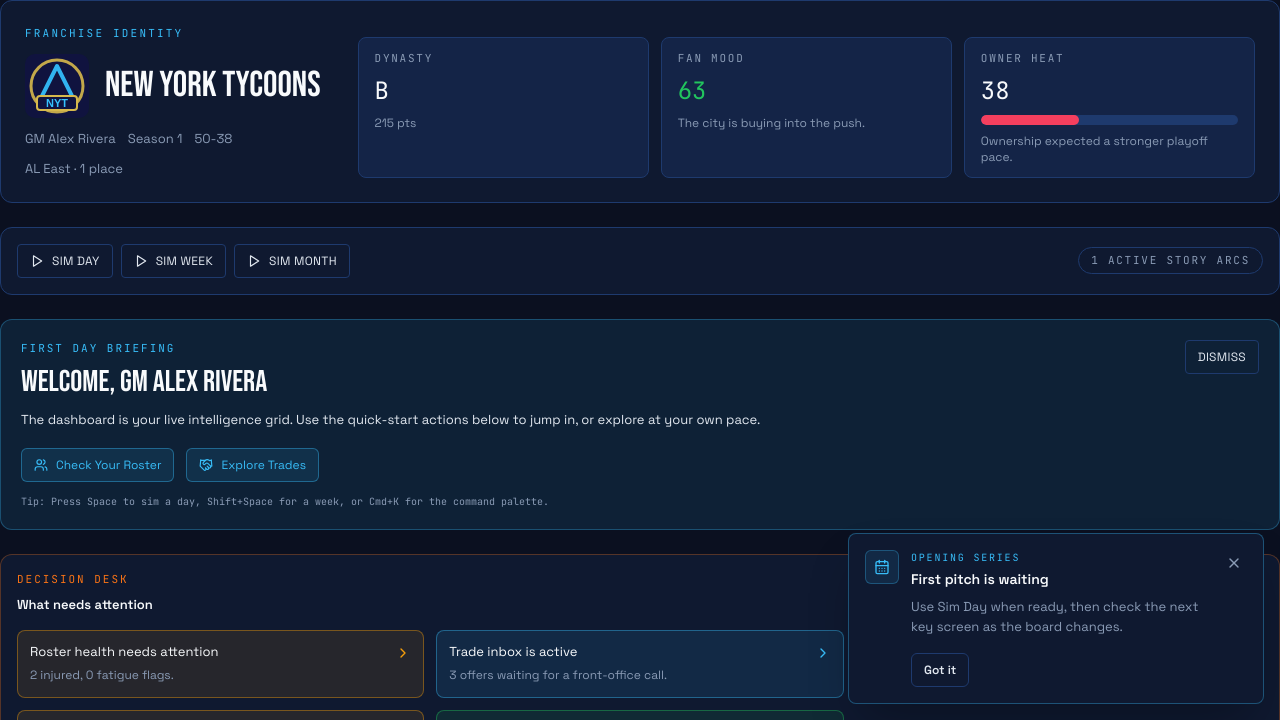
DashboardPage › shows the first-series pointer once on the first season opening series
Click the button "Got it": (940, 670) [911,653,969,687]
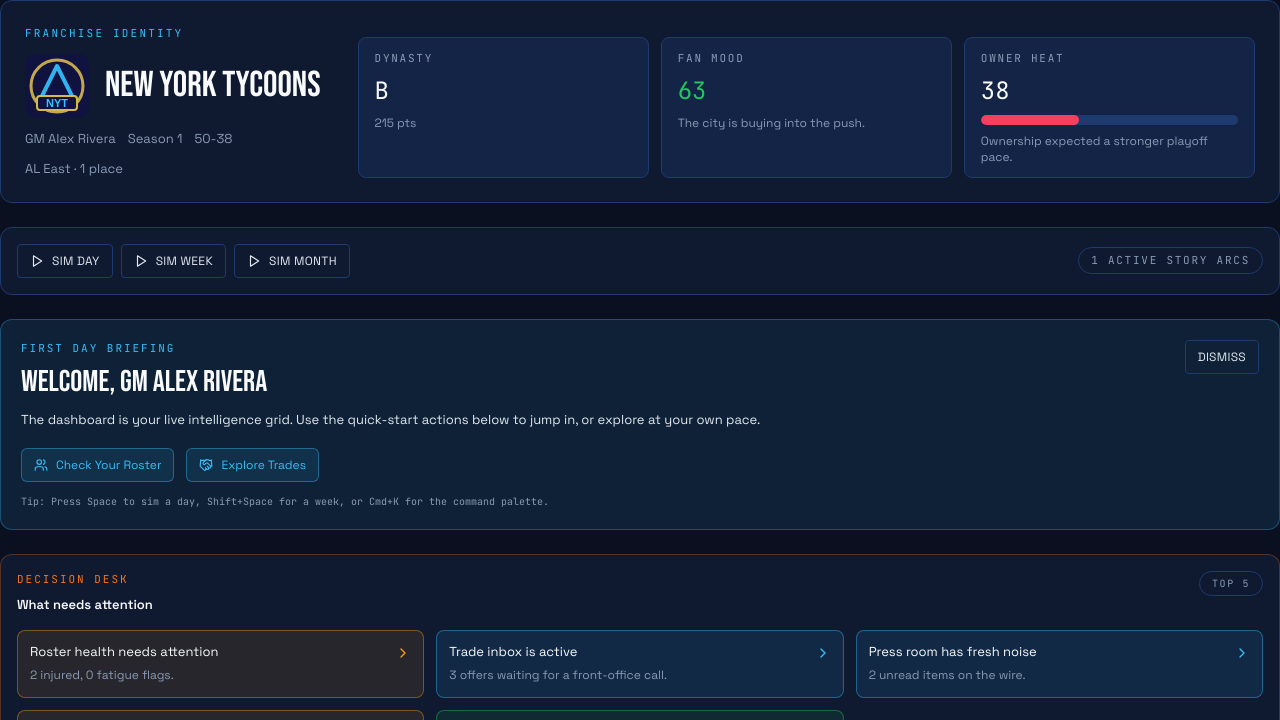
Result: the text "First pitch is waiting" is gone
